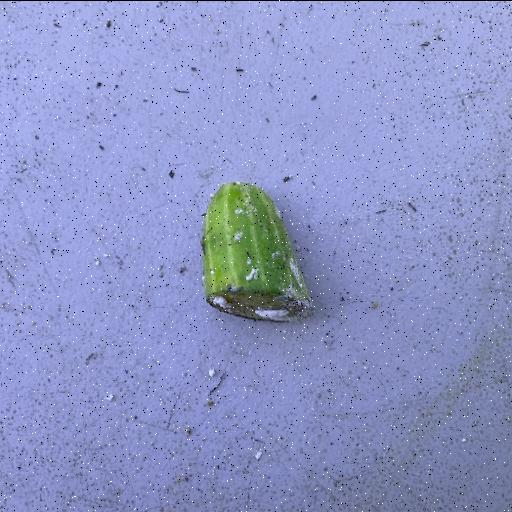Waste: (200, 180, 316, 324)
